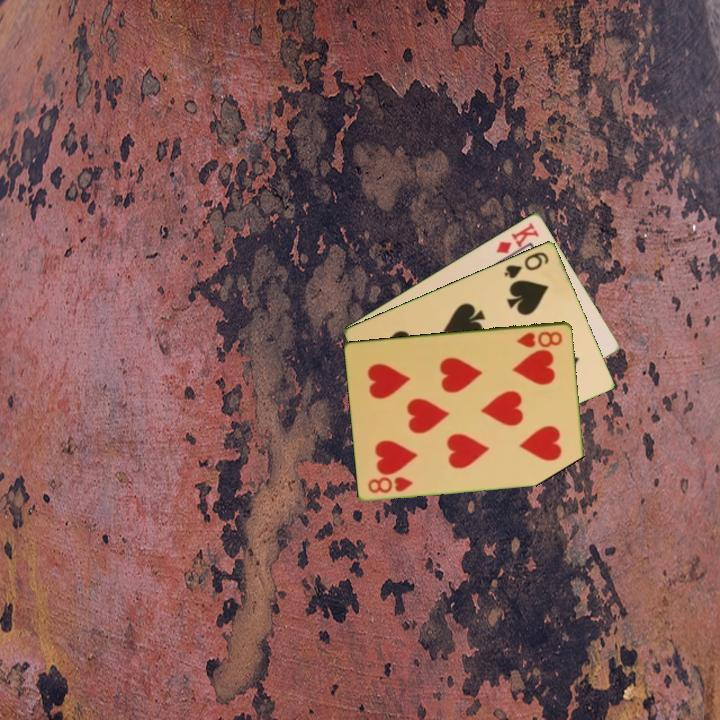6s: (500, 248, 552, 281)
8h: (513, 327, 566, 350), (365, 473, 416, 496)
Kd: (492, 218, 542, 256)
